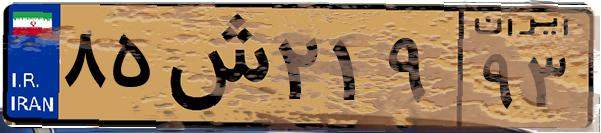1: (330, 28, 385, 110)
2: (270, 28, 330, 110)
3: (525, 38, 570, 115)
5: (110, 28, 158, 98)
8: (57, 26, 110, 100)
9: (385, 28, 445, 110), (475, 38, 525, 113)
ش: (158, 12, 270, 120)
